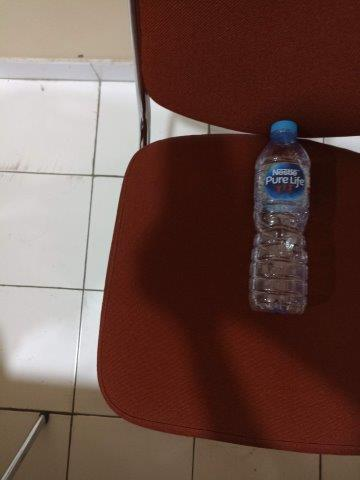botolplastik: (248, 120, 312, 313)
